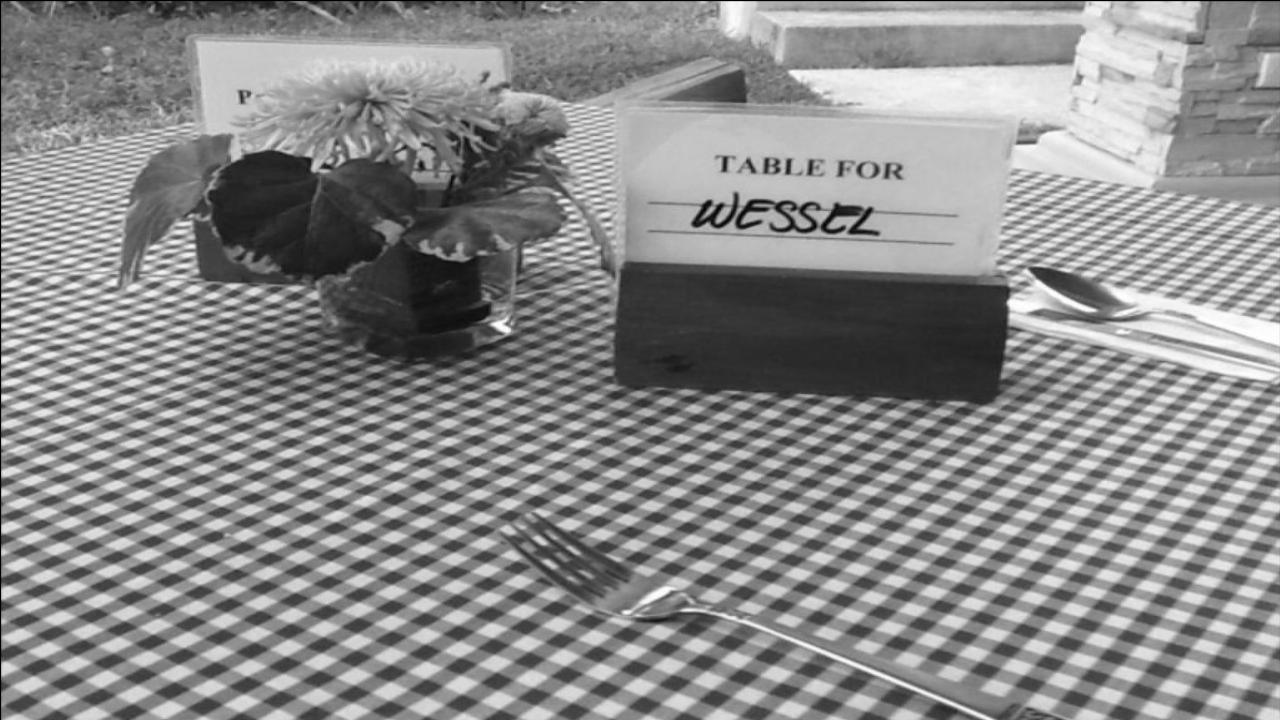fork: (494, 509, 1083, 720)
